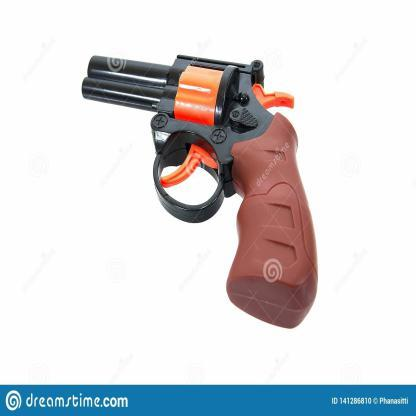Pistol: (65, 37, 335, 332)
